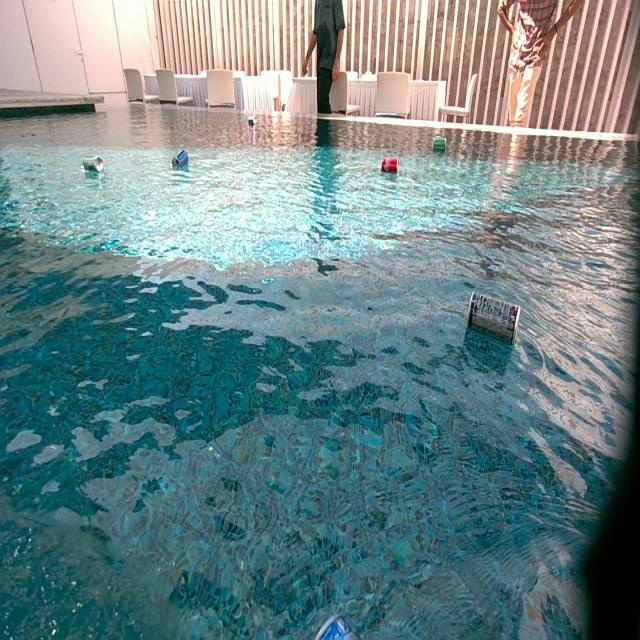Cans: (466, 289, 521, 347), (84, 156, 104, 176), (173, 151, 190, 170), (431, 137, 447, 154), (382, 159, 398, 175), (248, 115, 258, 127)
